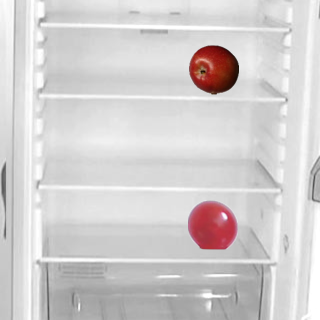Apple Braeburn: (188, 44, 238, 94)
Redcurrant: (187, 199, 237, 249)
